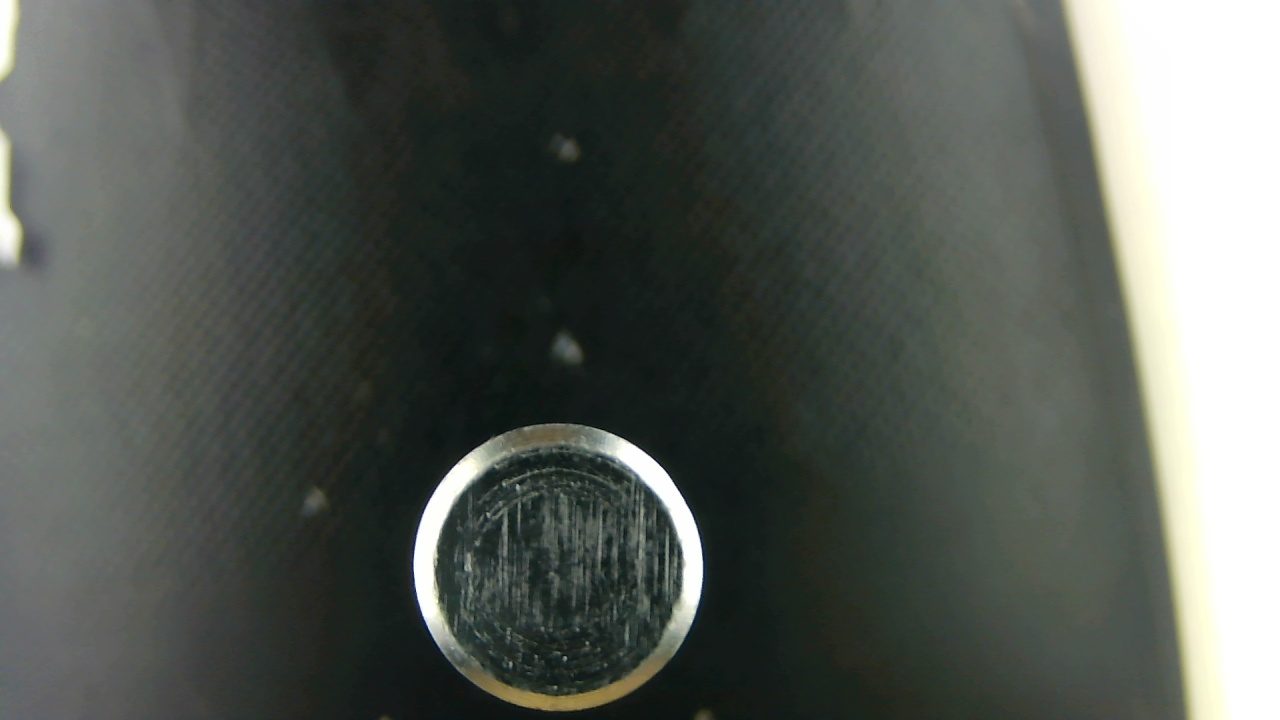Okay_Pin: (268, 86, 590, 449), (414, 424, 702, 710)
